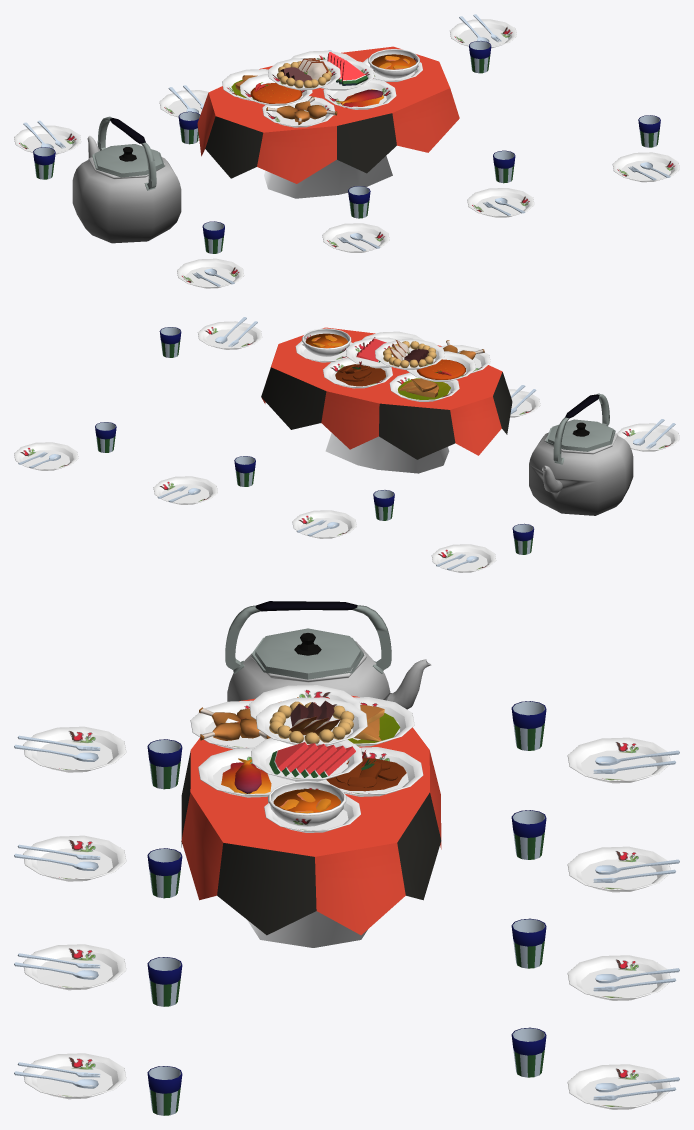
File: makan_bajamba.fbx
The picture shows the model from 3 angles, top to bottom: view 1: azimuth 30°, elevation 25°; view 2: azimuth 150°, elevation 25°; view 3: azimuth 270°, elevation 25°; orthographic projection. The views are drawn at different scales.
Parts seen in each view (by area): view 1: meja, ceret.002, makanan.005, makanan.002, makanan, makanan.001, piring.086, piring.089, piring.037, piring.041, makanan.003, piring.035 (+12 smaller); view 2: meja, ceret.002, makanan.005, makanan, rendang, makanan.004, piring.025, piring.019, piring.014, piring.035, piring.086, makanan.003 (+9 smaller); view 3: meja, ceret.002, makanan.005, makanan, piring.041, piring.086, piring.037, piring.089, piring.025, piring.035, piring.019, piring.014 (+15 smaller).
Boxes of the visible parts, x1,y1,x2,y2 form: meja: (197, 46, 459, 198); ceret.002: (72, 116, 181, 243); makanan.005: (268, 58, 340, 90); makanan.002: (262, 96, 337, 127); makanan: (363, 49, 422, 81); makanan.001: (323, 78, 396, 109); piring.086: (612, 152, 679, 182); piring.089: (177, 258, 244, 288); piring.037: (322, 223, 389, 252); piring.041: (467, 188, 534, 217); makanan.003: (240, 74, 312, 105); piring.035: (14, 125, 81, 154); meja: (261, 327, 512, 473); ceret.002: (529, 393, 633, 515); makanan.005: (375, 339, 444, 369); makanan: (295, 328, 352, 362); rendang: (323, 358, 392, 388); makanan.004: (389, 372, 459, 401); piring.025: (292, 510, 356, 538); piring.019: (153, 476, 217, 504); piring.014: (14, 442, 78, 470); piring.035: (431, 544, 496, 572); piring.086: (197, 321, 262, 349); makanan.003: (406, 351, 475, 381); meja: (181, 695, 441, 947); ceret.002: (225, 601, 431, 709); makanan.005: (256, 697, 367, 745); makanan: (264, 781, 360, 832); piring.041: (23, 944, 126, 990); piring.086: (23, 1053, 126, 1099); piring.037: (23, 835, 126, 881); piring.089: (23, 726, 126, 772); piring.025: (567, 846, 670, 892); piring.035: (567, 737, 670, 783); piring.019: (567, 955, 670, 1000); piring.014: (567, 1064, 670, 1109).
Size of the model in its own units: 422 by 89.57 by 298.
